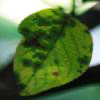Apple Scab Leaf: (11, 7, 95, 99)
